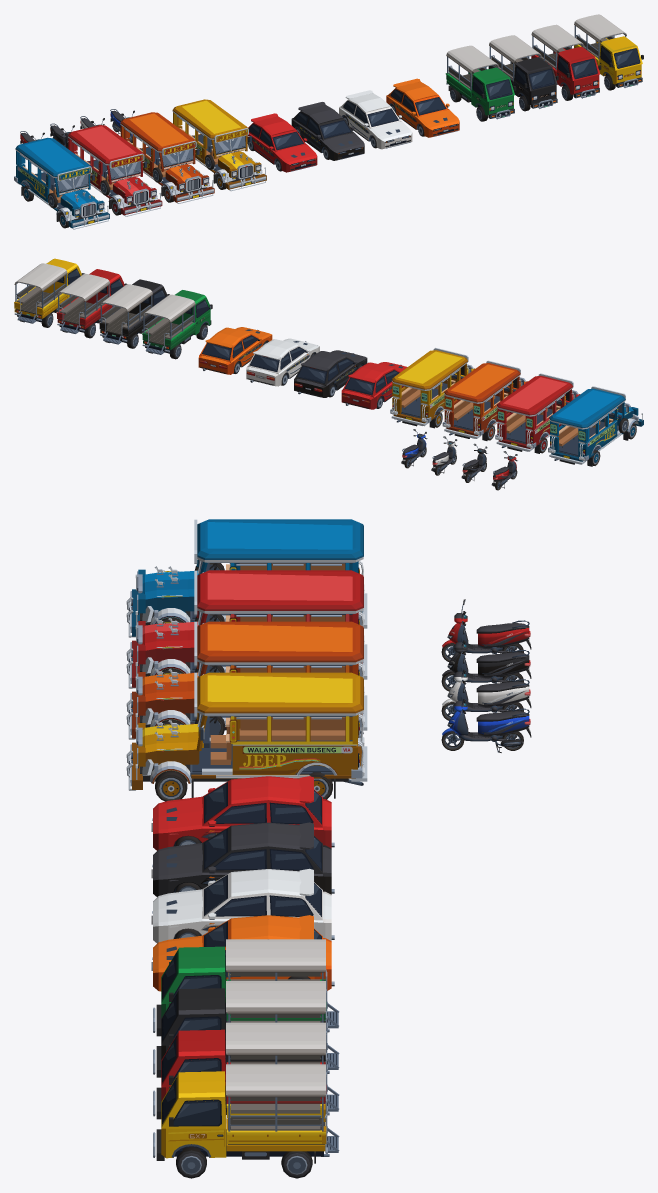
Rendered from Vehicles.glb.
The picture shows the model from 3 angles, top to bottom: view 1: azimuth 30°, elevation 25°; view 2: azimuth 150°, elevation 25°; view 3: azimuth 270°, elevation 25°; orthographic projection. The views are drawn at different scales.
Visible parts, largest first — view 1: Jeepney - Blue, Jeepney - Orange, Jeepney - Red, Jeepney - Yellow, Shizuku 6x7 - Green, Shizuku 6x7 - Black, Shizuku 6x7 - Yellow, Shizuku 6x7 - Red, Honka Cervix - Orange Hatchback, Honka Cervix - White Hatchback, Honka Cervix - Black Hatchback, Honka Cervix - Red Hatchback; view 2: Jeepney - Blue, Jeepney - Orange, Jeepney - Red, Jeepney - Yellow, Shizuku 6x7 - Green, Shizuku 6x7 - Black, Shizuku 6x7 - Yellow, Shizuku 6x7 - Red, Honka Cervix - White Hatchback, Honka Cervix - Orange Hatchback, Honka Cervix - Black Hatchback, Honka Cervix - Red Hatchback (+4 smaller); view 3: Jeepney - Yellow, Shizuku 6x7 - Yellow, Jeepney - Orange, Jeepney - Blue, Jeepney - Red, Honka Cervix - Red Hatchback, Honka Cervix - Black Hatchback, Honka Cervix - White Hatchback, Shizuku 6x7 - Red, Shizuku 6x7 - Green, Shizuku 6x7 - Black, Honka Cervix - Orange Hatchback (+4 smaller).
Part boxes in pixels (x1,y1,x2,y2): Jeepney - Blue: (14, 137, 109, 229); Jeepney - Orange: (120, 112, 214, 203); Jeepney - Red: (67, 125, 162, 216); Jeepney - Yellow: (172, 99, 266, 191); Shizuku 6x7 - Green: (445, 45, 516, 121); Shizuku 6x7 - Black: (488, 35, 558, 111); Shizuku 6x7 - Yellow: (574, 14, 643, 90); Shizuku 6x7 - Red: (531, 24, 601, 100); Honka Cervix - Orange Hatchback: (386, 78, 459, 137); Honka Cervix - White Hatchback: (339, 90, 412, 149); Honka Cervix - Black Hatchback: (291, 102, 364, 160); Honka Cervix - Red Hatchback: (247, 113, 317, 172); Jeepney - Blue: (548, 386, 643, 466); Jeepney - Orange: (442, 360, 527, 440); Jeepney - Red: (495, 373, 580, 453); Jeepney - Yellow: (390, 347, 474, 428); Shizuku 6x7 - Green: (142, 290, 212, 359); Shizuku 6x7 - Black: (99, 279, 169, 348); Shizuku 6x7 - Yellow: (14, 258, 84, 327); Shizuku 6x7 - Red: (56, 269, 126, 338); Honka Cervix - White Hatchback: (246, 338, 319, 386); Honka Cervix - Orange Hatchback: (198, 327, 272, 374); Honka Cervix - Black Hatchback: (294, 350, 367, 397); Honka Cervix - Red Hatchback: (341, 362, 407, 409); Jeepney - Yellow: (126, 672, 367, 801); Shizuku 6x7 - Yellow: (153, 1064, 339, 1178); Jeepney - Orange: (126, 621, 367, 739); Jeepney - Blue: (126, 519, 367, 637); Jeepney - Red: (126, 570, 367, 688); Honka Cervix - Red Hatchback: (151, 776, 334, 850); Honka Cervix - Black Hatchback: (151, 822, 334, 896); Honka Cervix - White Hatchback: (151, 868, 334, 943); Shizuku 6x7 - Red: (153, 1022, 339, 1119); Shizuku 6x7 - Green: (153, 939, 339, 1036); Shizuku 6x7 - Black: (153, 981, 339, 1077); Honka Cervix - Orange Hatchback: (151, 915, 334, 991).
Bounding box in the file's own units: 29.89 × 2.39 × 8.97.
Materials: 1 (1 with a texture image).
